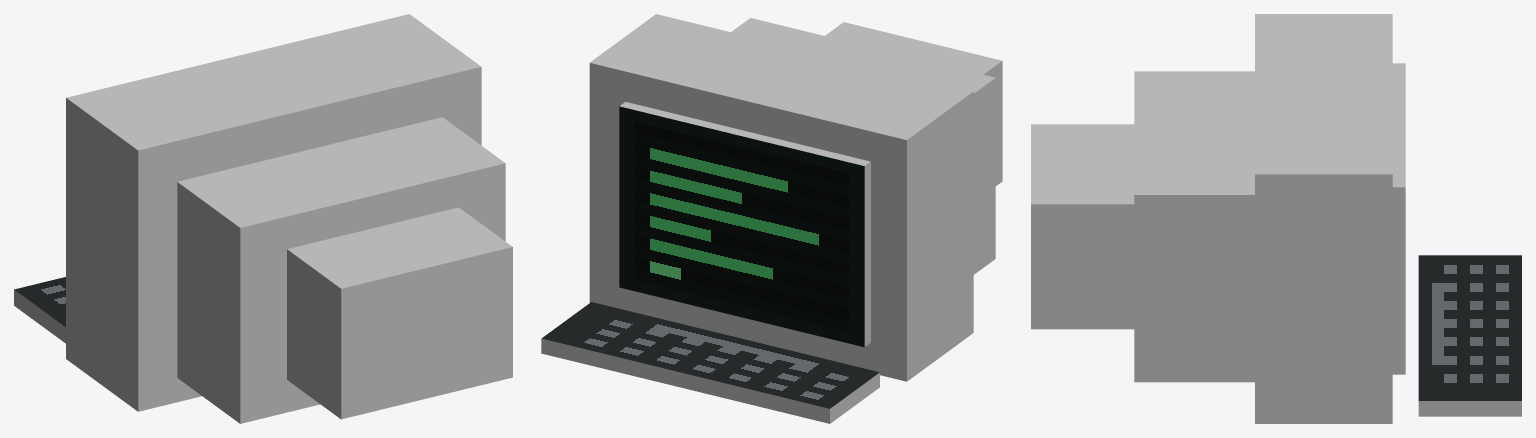
The model's file is desk_round_crt.obj.
The picture shows the model from 3 angles, left to right: view 1: azimuth 30°, elevation 25°; view 2: azimuth 150°, elevation 25°; view 3: azimuth 270°, elevation 25°; orthographic projection. The views are drawn at different scales.
Visible parts, largest first — view 1: desk_round_crt; view 2: desk_round_crt; view 3: desk_round_crt.
Part boxes in pixels (x1,y1,x2,y2): desk_round_crt: [14, 14, 512, 423]; desk_round_crt: [541, 14, 1002, 423]; desk_round_crt: [1031, 14, 1521, 423].
Bounding box in the file's own units: 0.44 × 0.32 × 0.57.
